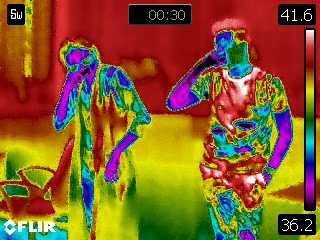human: (165, 19, 290, 240), (50, 34, 152, 240)
